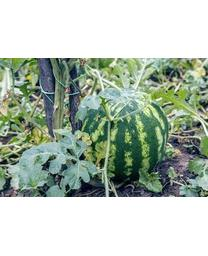watermelon: (77, 89, 169, 183)
